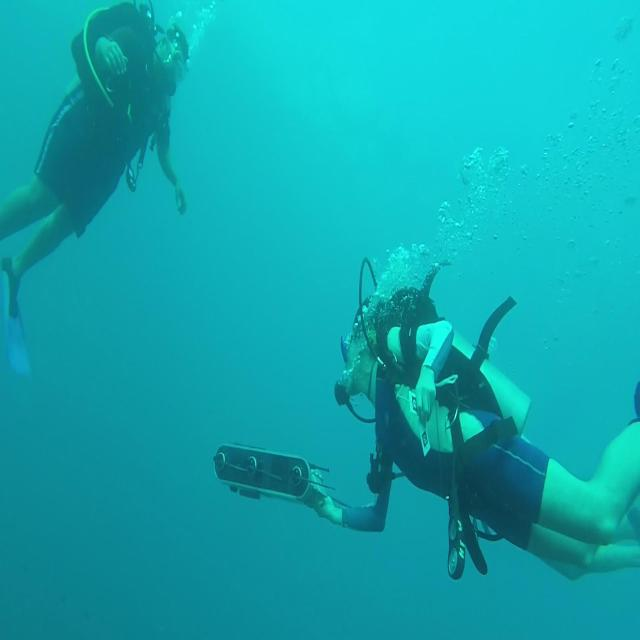human: (302, 255, 639, 582), (1, 1, 190, 376)
